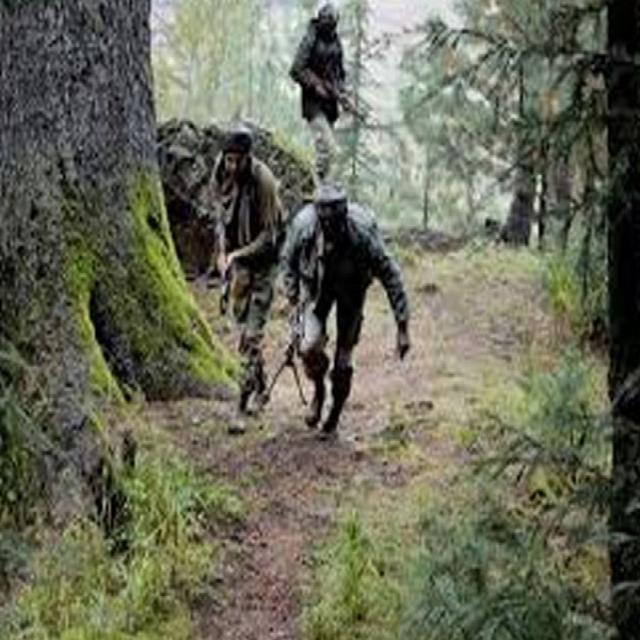Forest: (0, 0, 640, 640)
Militant: (275, 170, 427, 463), (192, 115, 292, 432), (270, 0, 374, 221)
